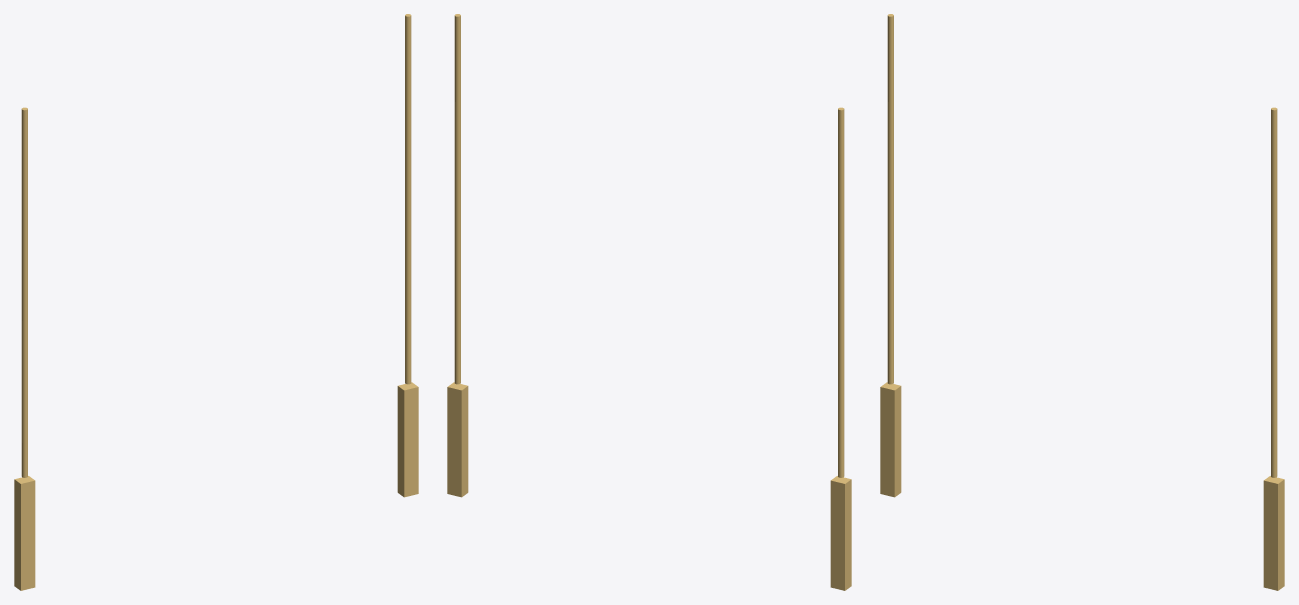
3 views of the same model, side by side, from view 1: azimuth 30°, elevation 25°; view 2: azimuth 150°, elevation 25°; view 3: azimuth 330°, elevation 25° (orthographic).
Size of the model in its own units: 1.25 by 1.43 by 0.035.
